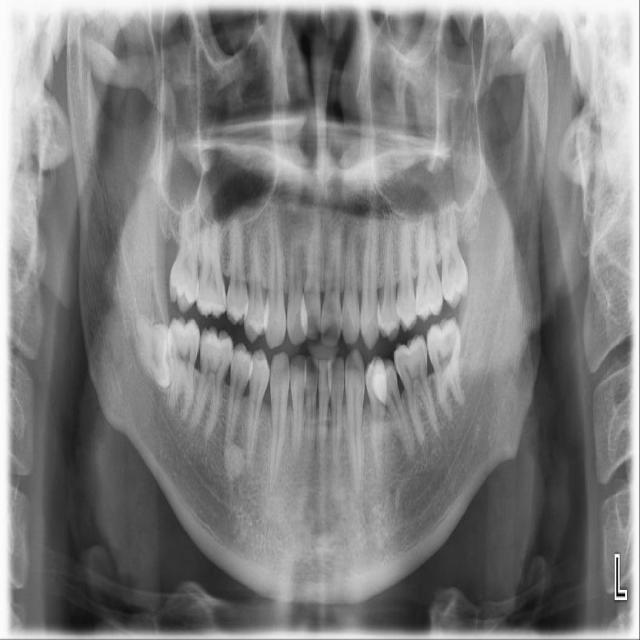Periapical lesion: (220, 444, 247, 477)
impacted tooth: (127, 304, 169, 387)
